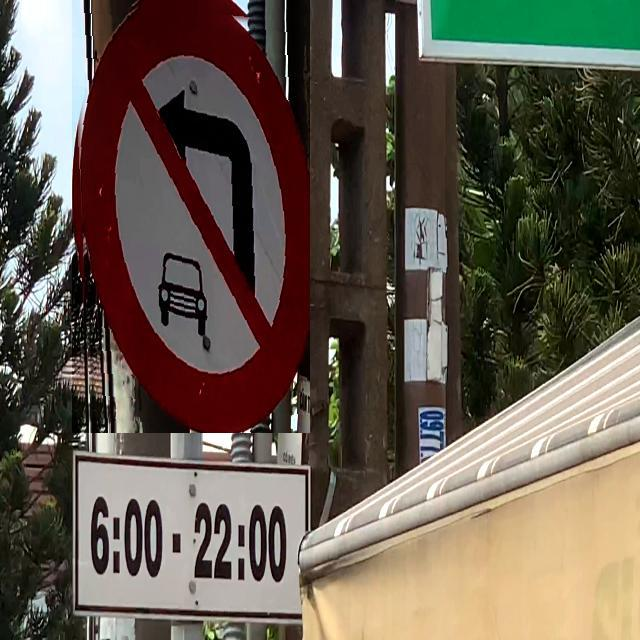P-103c: (72, 0, 310, 433)
